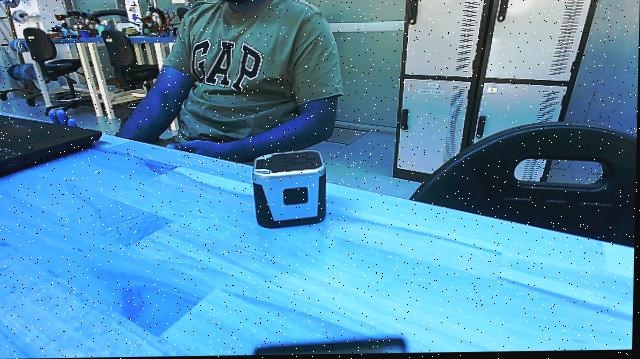adapter: (246, 148, 333, 238)
